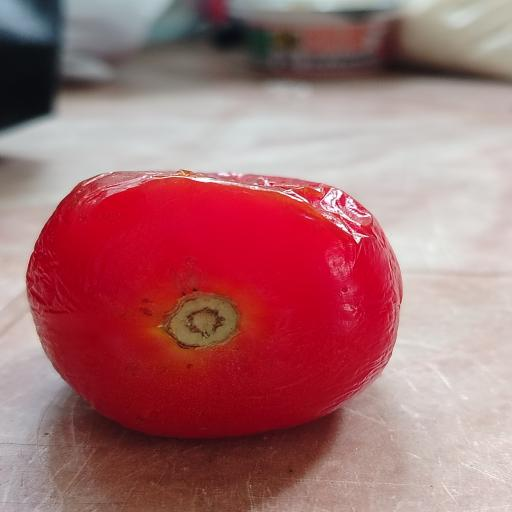spoiled: (27, 171, 402, 438)
